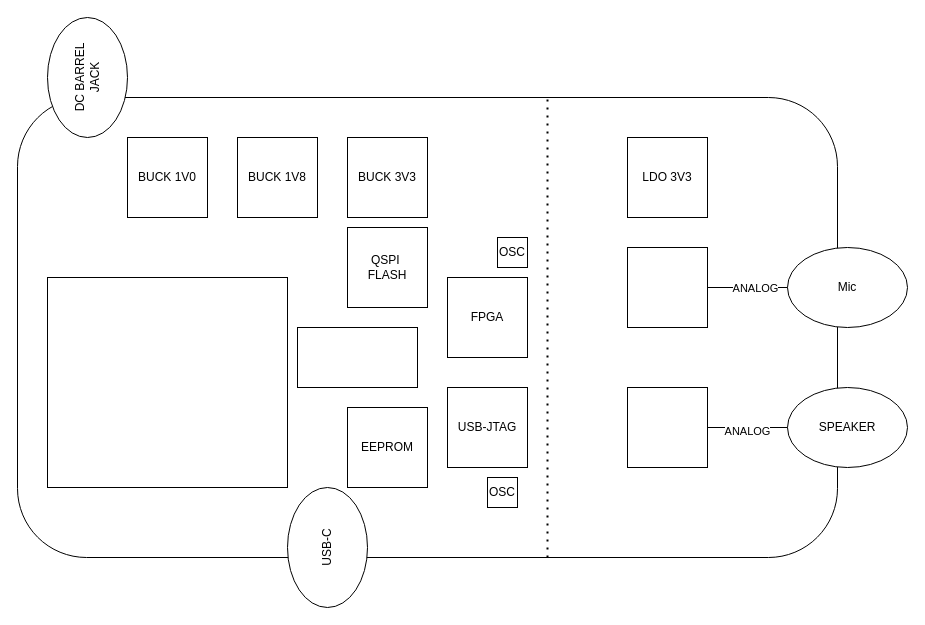
Some shapes in this 925 by 625 pixel diagram are drawn without their labels. Here are the shapes that lost their labels. From the top down, the box of each, then its label:
(626, 246, 708, 328): ADC
(296, 326, 418, 388): JTAG HEADER
(46, 276, 288, 488): USER INPUT
(626, 386, 708, 468): DAC
